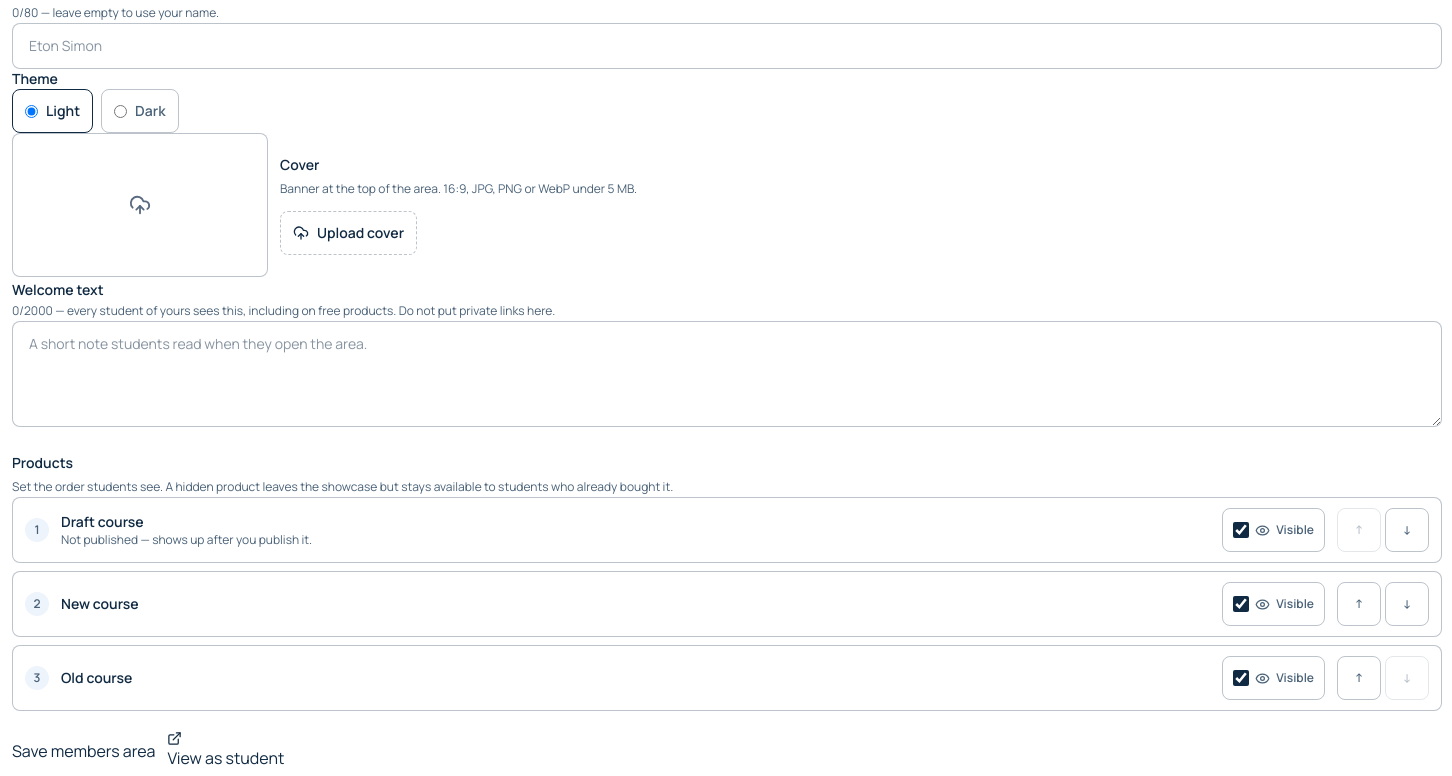
Test: MemberAreaSettingsPanel › erro ao salvar aparece e nada some
The image size is (1452, 776).
(page scrolled)
Expected: the list is shown, [12, 497, 1442, 711]
Step 1. Click the button "Save members area" → (84, 750), box [12, 738, 155, 762]
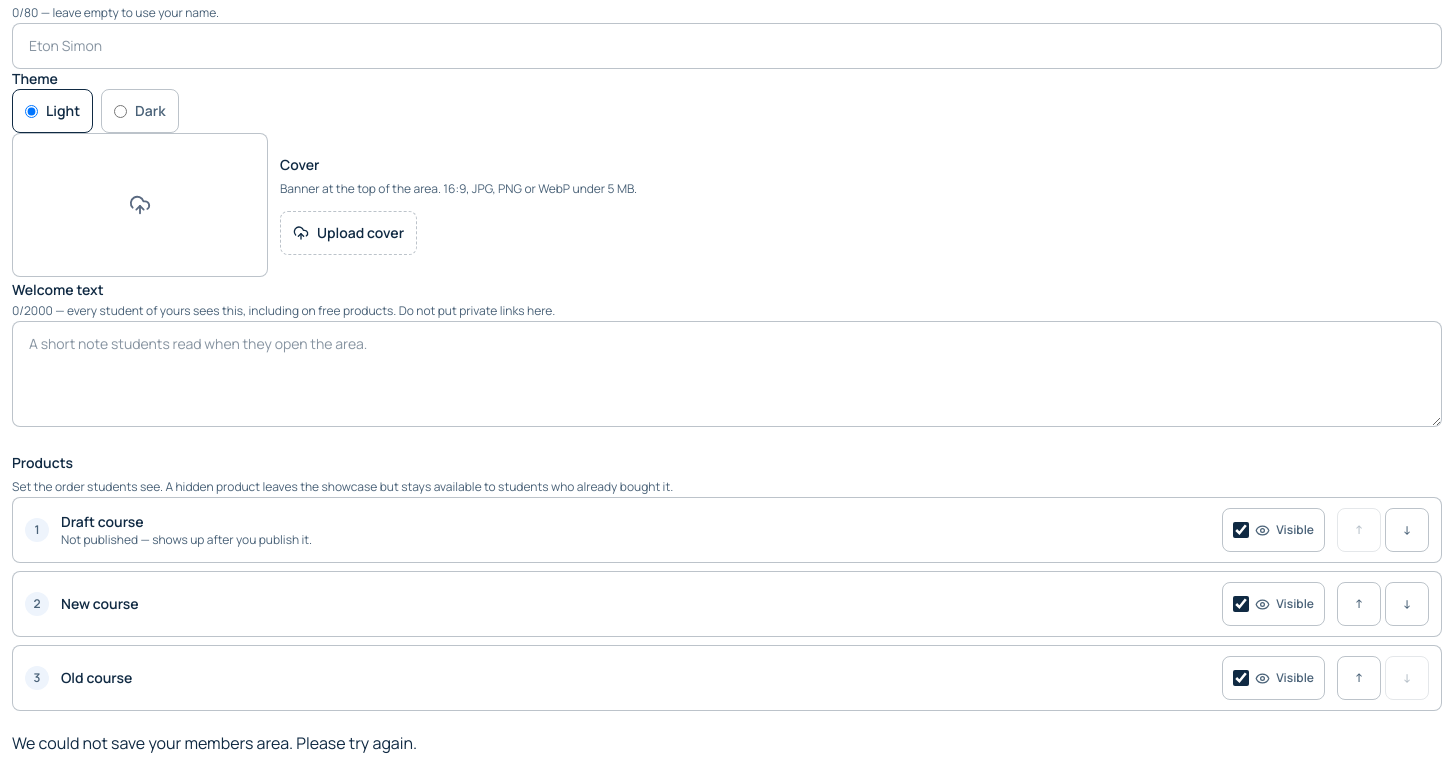
Expected: the text "We could not save your members area. Please try again." is shown, [12, 732, 417, 754]
